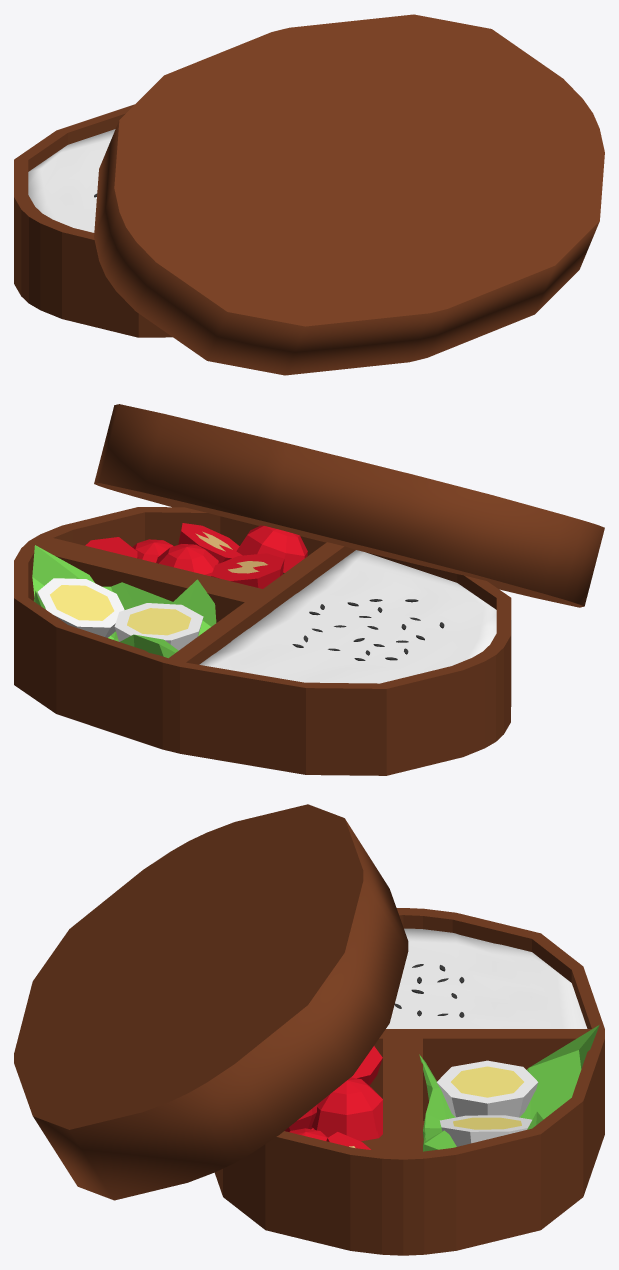
The model's file is bento.gltf.
3 renders of one model, top to bottom at view 1: azimuth 30°, elevation 25°; view 2: azimuth 150°, elevation 25°; view 3: azimuth 270°, elevation 25°, orthographic. The views are drawn at different scales.
Visible parts, largest first — view 1: Cube.001, Cube, Cube.002; view 2: Cube, Cube.001, Cube.002, Plane.001, Sphere.009, Sphere.008, Sphere, Sphere.001, Sphere.002, Sphere.003, Plane, Sphere.004 (+1 smaller); view 3: Cube.001, Cube, Cube.002, Plane.001, Sphere.008, Sphere.003, Sphere.009, Sphere.
Boxes of the visible parts, bbox=[...] form: Cube.001: bbox=[94, 14, 604, 375]; Cube: bbox=[14, 104, 172, 337]; Cube.002: bbox=[28, 129, 115, 232]; Cube: bbox=[14, 507, 511, 775]; Cube.001: bbox=[94, 404, 604, 607]; Cube.002: bbox=[199, 550, 496, 683]; Plane.001: bbox=[32, 545, 216, 658]; Sphere.009: bbox=[37, 578, 124, 637]; Sphere.008: bbox=[114, 603, 203, 650]; Sphere: bbox=[211, 553, 284, 588]; Sphere.001: bbox=[236, 525, 307, 572]; Sphere.002: bbox=[178, 523, 242, 563]; Sphere.003: bbox=[156, 544, 219, 576]; Plane: bbox=[292, 599, 444, 660]; Sphere.004: bbox=[85, 537, 138, 558]; Cube.001: bbox=[14, 804, 408, 1200]; Cube: bbox=[214, 908, 604, 1255]; Cube.002: bbox=[386, 928, 587, 1028]; Plane.001: bbox=[419, 1025, 599, 1151]; Sphere.008: bbox=[436, 1060, 538, 1117]; Sphere.003: bbox=[311, 1077, 382, 1136]; Sphere.009: bbox=[440, 1115, 531, 1146]; Sphere: bbox=[351, 1046, 382, 1085].
Bounding box in the file's own units: 5.62 × 2.65 × 5.58.
